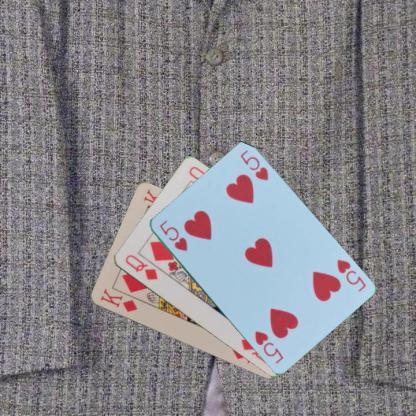5h: (334, 256, 367, 293), (156, 218, 188, 252)
Kd: (97, 285, 139, 314)
Qd: (122, 252, 159, 281)
